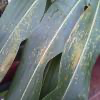Corn rust leaf: (12, 3, 79, 99), (54, 2, 99, 98), (0, 1, 46, 82)
